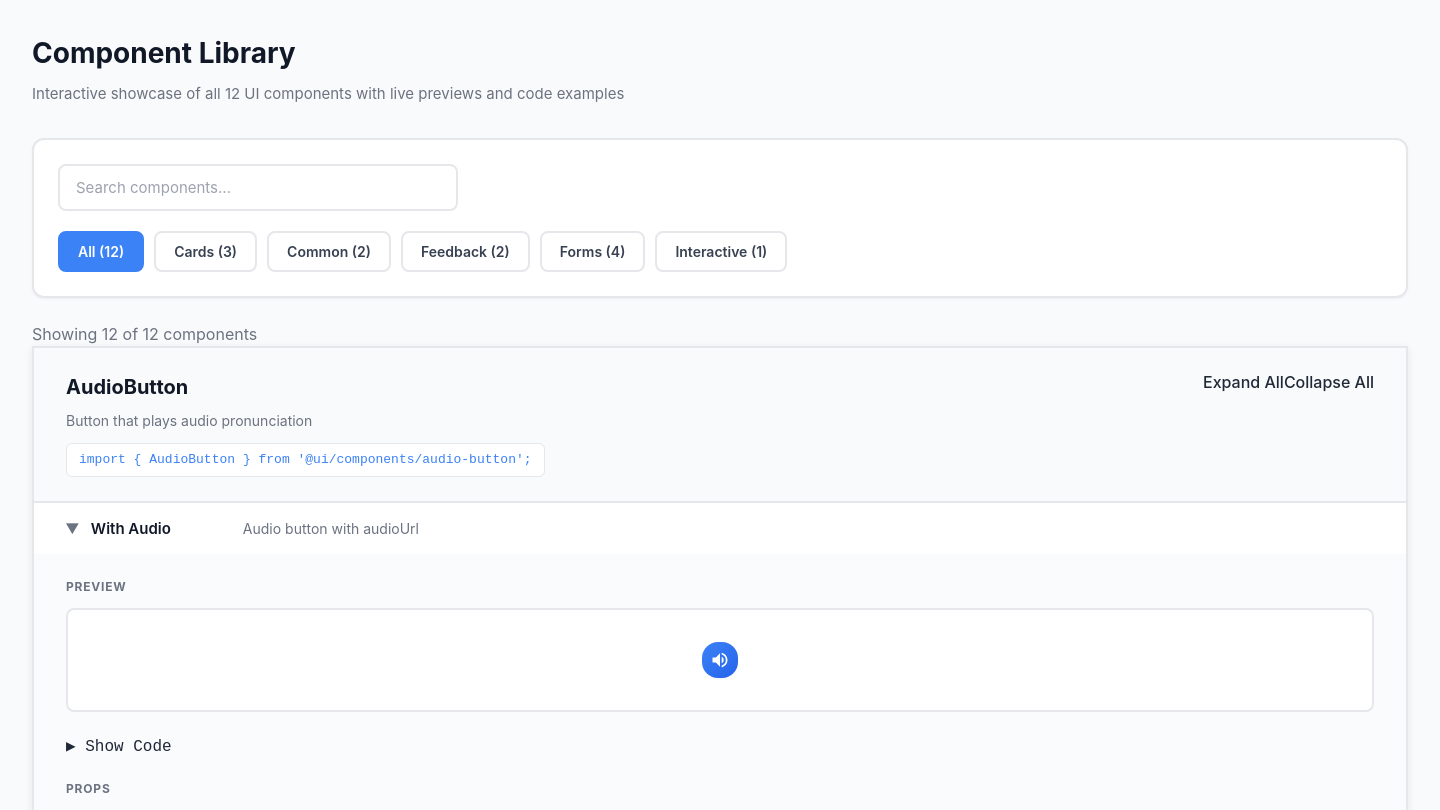
it: ComponentLibrary › Category Filtering › should filter by Common category
Click the button "Common (2)" at (329, 252), box 267,231 -> 391,272
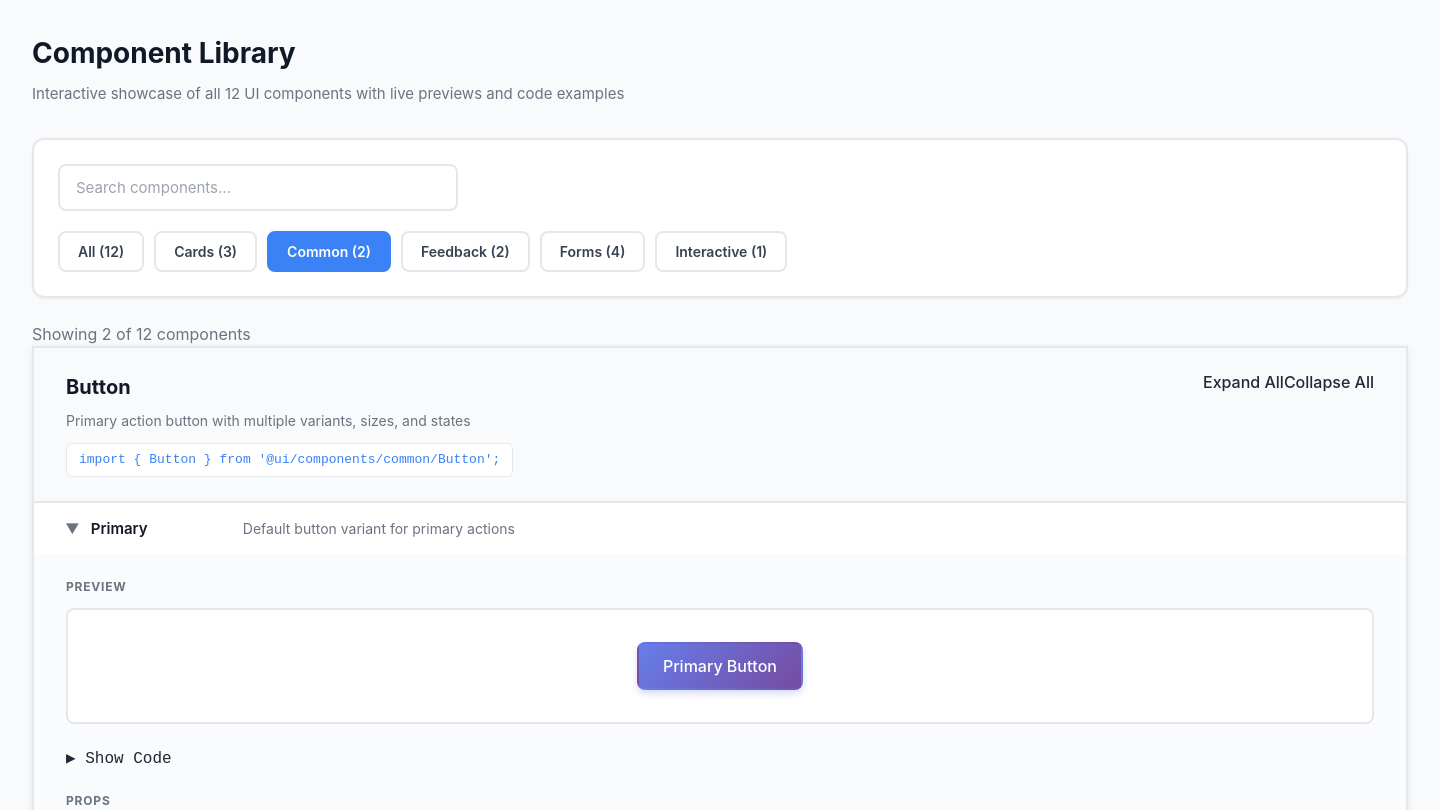
Check: the text "Showing 2 of 12 components" is shown, box 32,324 -> 251,344
